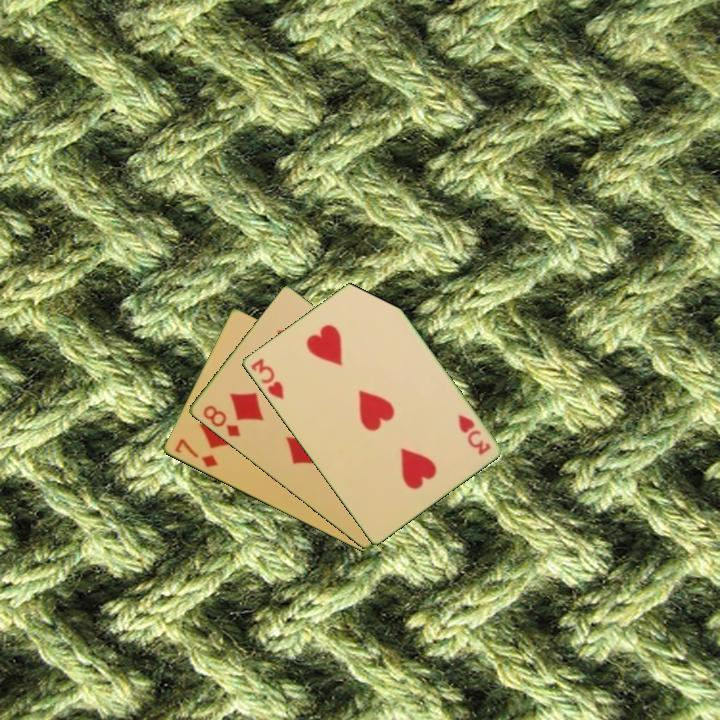3h: (247, 355, 287, 403), (454, 410, 493, 458)
7d: (171, 435, 220, 471)
8d: (199, 402, 243, 440)
